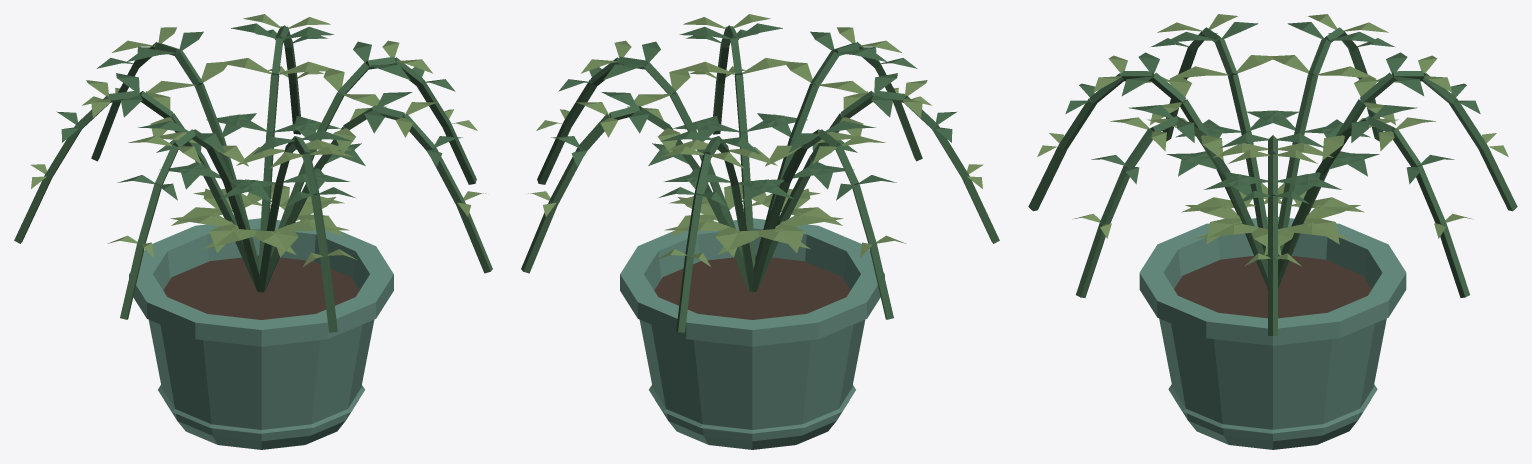
File: decor_pot_fern.glb
The picture shows the model from 3 angles, left to right: view 1: azimuth 30°, elevation 25°; view 2: azimuth 150°, elevation 25°; view 3: azimuth 270°, elevation 25°; orthographic projection.
Visible parts, largest first — view 1: geometry; view 2: geometry; view 3: geometry.
Boxes of the visible parts, x1,y1,x2,y2 form: geometry: [14, 14, 492, 449]; geometry: [521, 14, 999, 449]; geometry: [1028, 14, 1517, 449].
Size of the model in its own units: 0.8341 by 0.6381 by 0.855.
